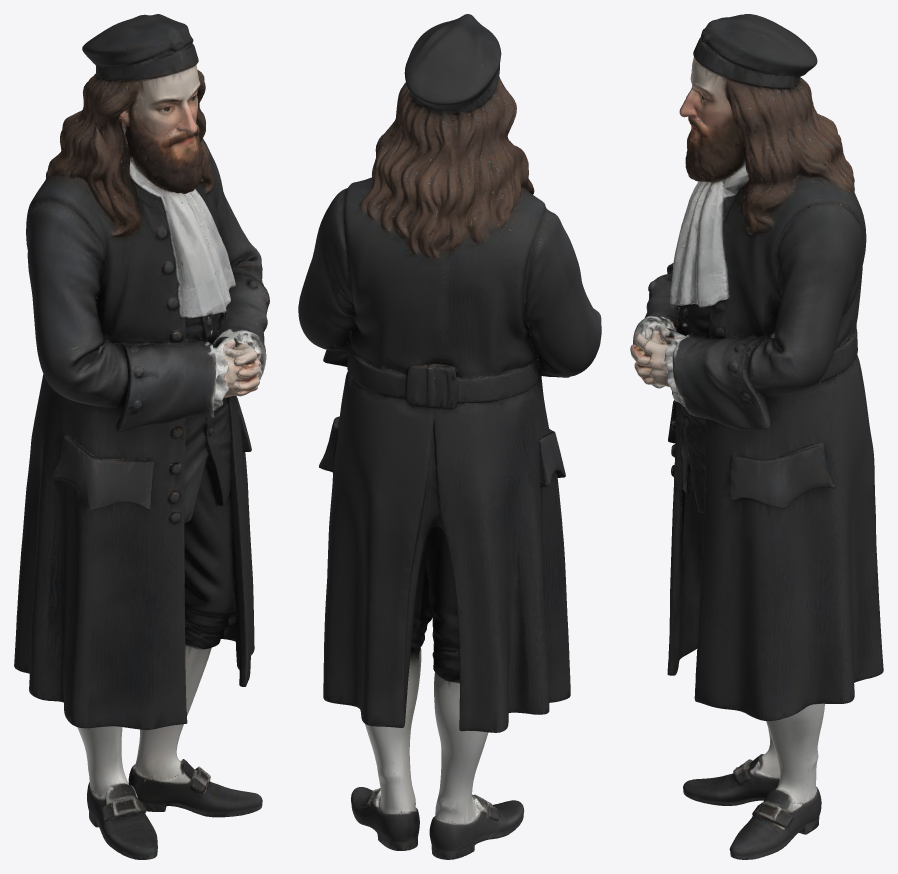
File: ramchal_viseme.glb
3 renders of one model, left to right at view 1: azimuth 30°, elevation 25°; view 2: azimuth 150°, elevation 25°; view 3: azimuth 270°, elevation 25°, orthographic. The views are drawn at different scales.
Size of the model in its own units: 0.652 by 2 by 0.5785.
Materials: 1 (1 with a texture image).
